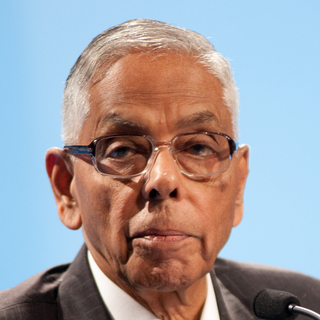eye: (177, 138, 220, 161), (99, 143, 138, 161)
